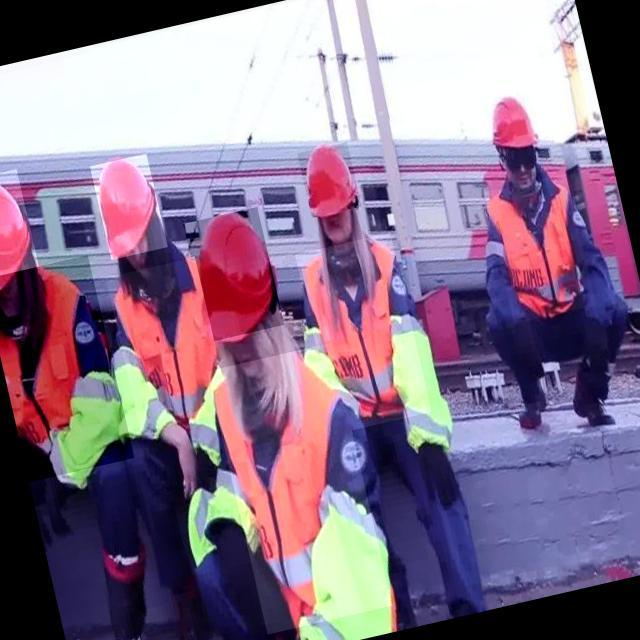Gloves: (203, 514, 269, 632), (416, 440, 468, 521), (498, 315, 546, 374), (579, 319, 617, 380)
Helmet: (183, 207, 284, 343), (90, 153, 168, 260), (0, 168, 43, 294), (297, 141, 363, 217), (484, 94, 538, 155)
Person: (286, 125, 440, 640), (469, 47, 640, 436), (190, 215, 301, 640)
Safety Vest: (207, 343, 393, 635), (295, 232, 432, 434), (105, 257, 230, 431), (0, 271, 94, 482), (484, 174, 596, 324), (305, 489, 387, 640), (388, 314, 453, 452), (56, 374, 125, 487), (113, 344, 164, 442)
bare-arms: (149, 414, 202, 499)
